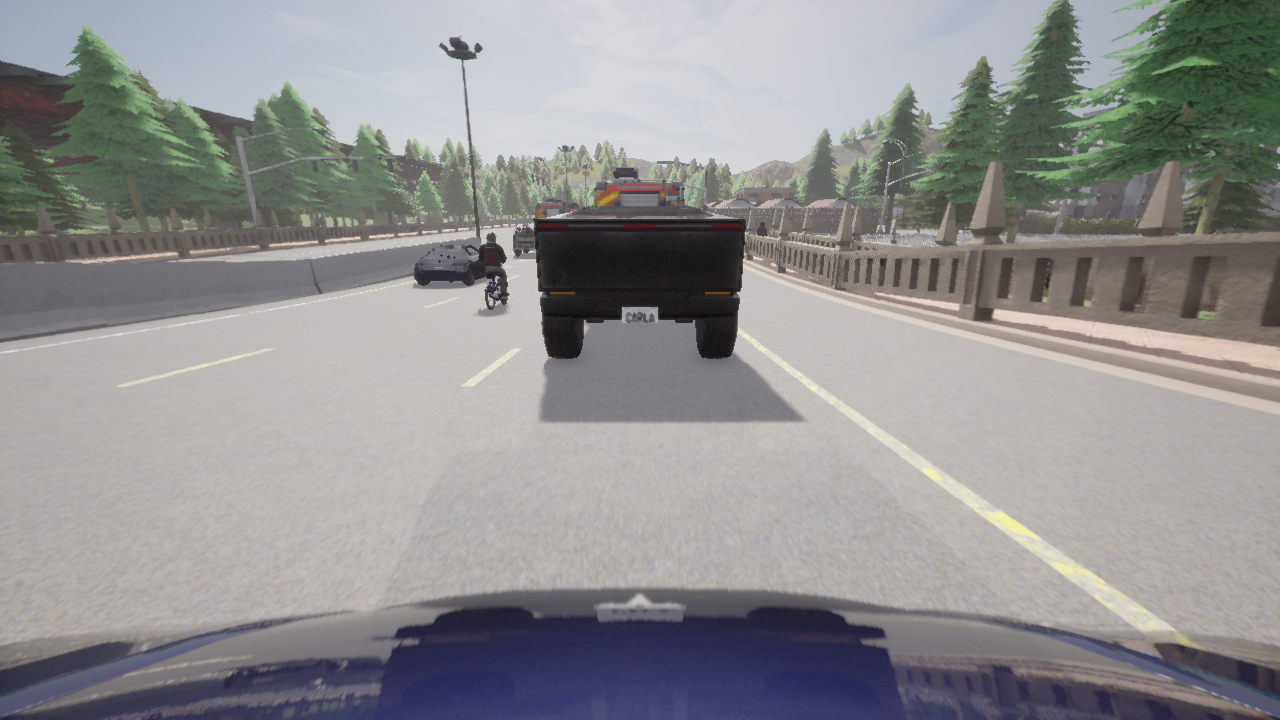cyclist: (0, 588, 1279, 719), (535, 207, 744, 357), (595, 167, 683, 206), (415, 245, 495, 284), (485, 265, 506, 309), (537, 198, 579, 218), (514, 223, 536, 255)
pedestrian: (758, 223, 766, 236), (916, 226, 921, 237), (956, 224, 959, 237), (961, 230, 965, 235)
